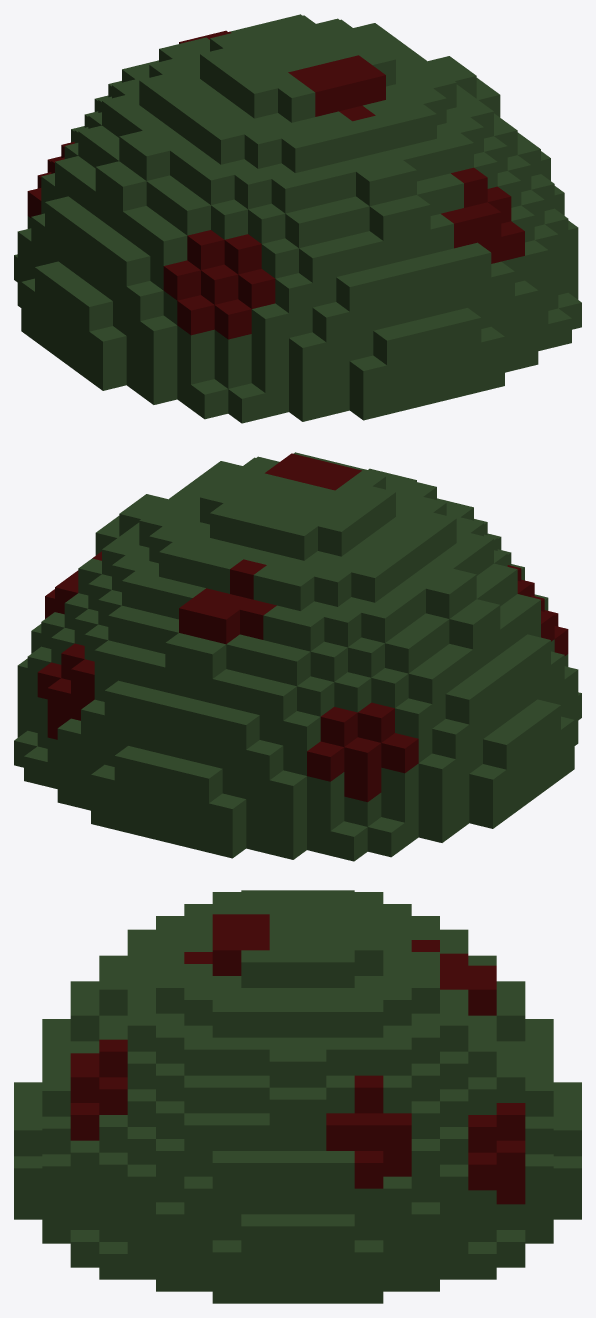
Rendered from Smallbush2.obj.
3 views of the same model, one above another, from view 1: azimuth 30°, elevation 25°; view 2: azimuth 150°, elevation 25°; view 3: azimuth 270°, elevation 25° (orthographic). The views are drawn at different scales.
Visible parts, largest first — view 1: Smallbush2; view 2: Smallbush2; view 3: Smallbush2.
Boxes of the visible parts, left/top/right/bottom form: Smallbush2: left=14, top=14, right=581, bottom=423; Smallbush2: left=14, top=452, right=581, bottom=861; Smallbush2: left=14, top=890, right=581, bottom=1303.
Bounding box in the file's own units: 20 × 10 × 20.
Materials: 1 (1 with a texture image).
